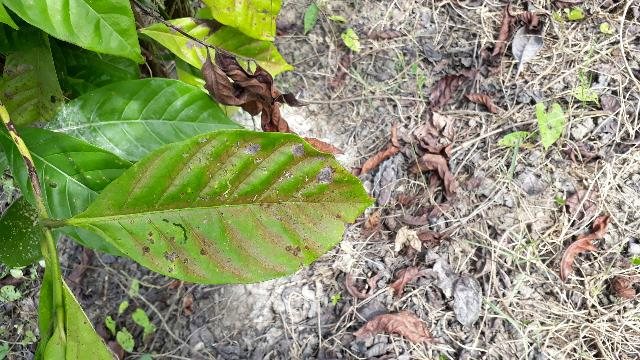red_spider_mite: (70, 132, 376, 283)
